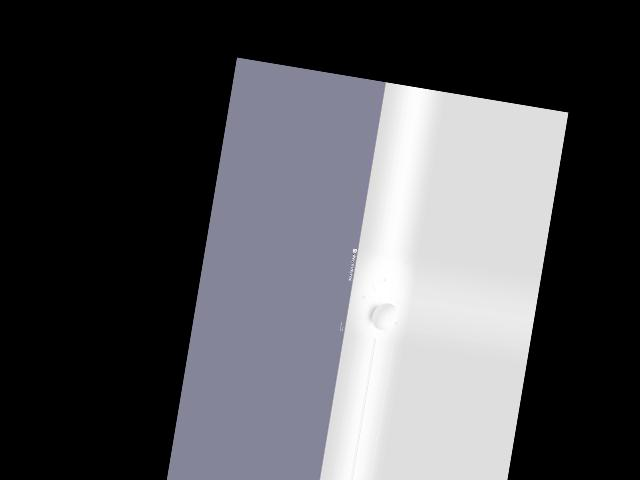egg: (369, 301, 398, 332)
